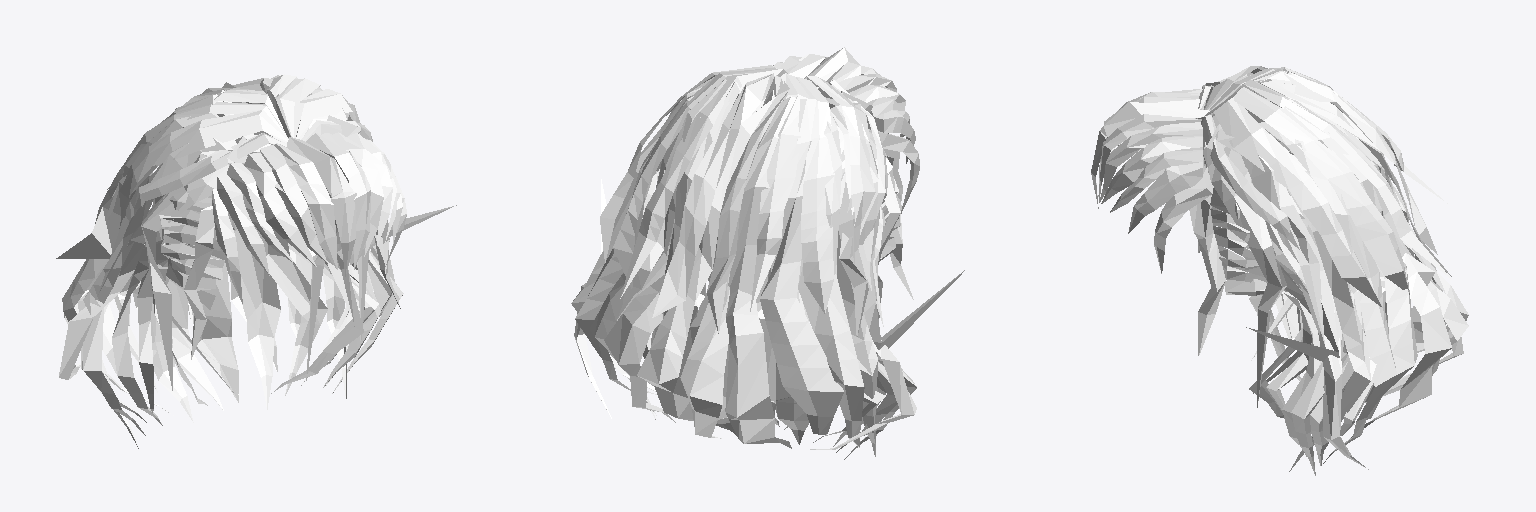
The model's file is hair.obj.
3 views of the same model, side by side, from view 1: azimuth 30°, elevation 25°; view 2: azimuth 150°, elevation 25°; view 3: azimuth 270°, elevation 25° (orthographic).
Visible parts, largest first — view 1: Hair; view 2: Hair; view 3: Hair.
Boxes of the visible parts, box(x1,y1,x2,y2) form: Hair: box(56, 74, 456, 448); Hair: box(571, 47, 964, 459); Hair: box(1091, 66, 1468, 475).
Bounding box in the file's own units: 1.3 × 1.2 × 1.16.